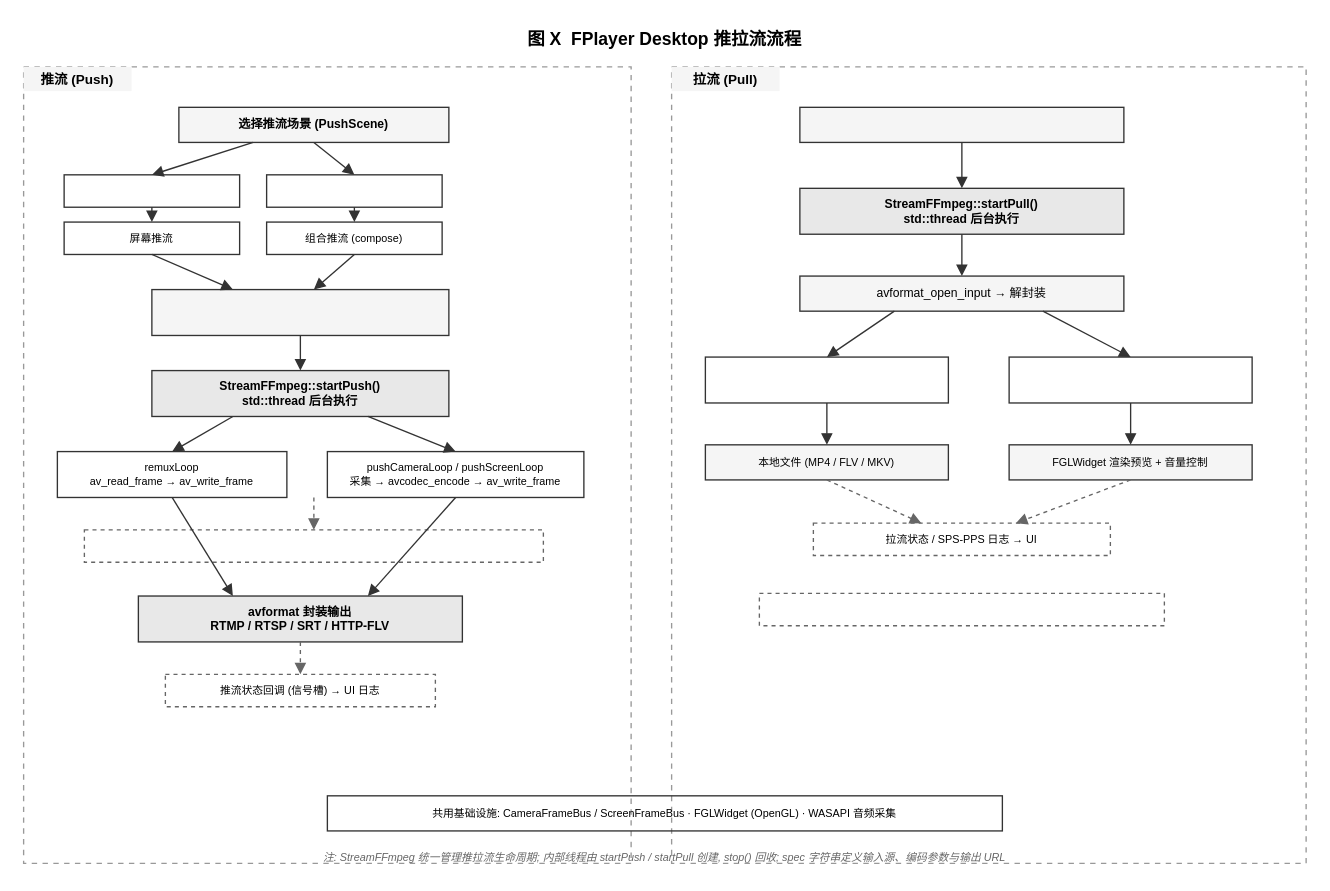
Some shapes in this 1330 by 891 pixel diagram are drawn without their labels. The shapes that lost their labels are listed below. From the top down, each one's box as (x1, y1, x2, y2) in pixels, then its label:
(799, 106, 1124, 142): 输入 URL: RTMP / RTSP / HTTP-FLV / SRT
(63, 173, 240, 207): 摄像头推流
(265, 173, 442, 207): 文件推流 (remux)
(151, 288, 449, 335): 构建 Push Spec 字符串 (streamffmpeg_helpers 解析)
(704, 356, 948, 403): 录制到本地文件 av_read_frame → av_write_frame
(1008, 356, 1252, 403): 解码 → YUV420P avcodec_decode → FrameBus
(83, 529, 543, 562): AudioPipeline (WASAPI loopback) — 音频采集 → swresample → 编码混入
(758, 592, 1164, 626): 用户停止 / 流结束 → StreamFFmpeg::stop() → 释放资源
